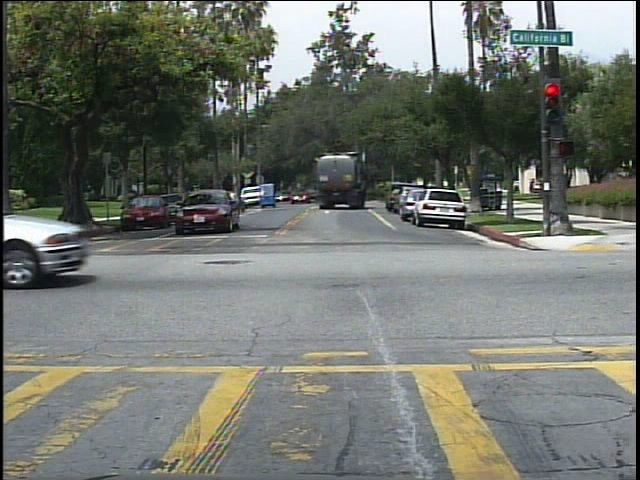person: (510, 178, 524, 197)
